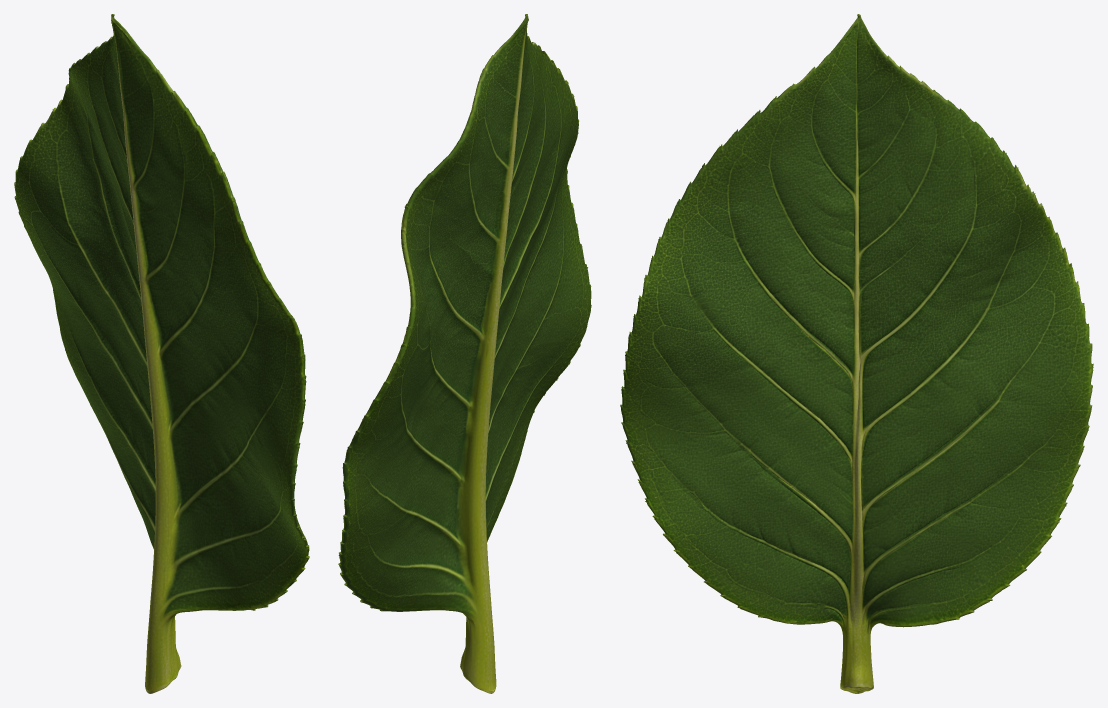
Rendered from leafcard.glb.
3 views of the same model, side by side, from view 1: azimuth 30°, elevation 25°; view 2: azimuth 150°, elevation 25°; view 3: azimuth 270°, elevation 25° (orthographic). The views are drawn at different scales.
Parts seen in each view (by area): view 1: tripo_node_b59f5614-e054-414b-b1bf-3f1816f5cf16; view 2: tripo_node_b59f5614-e054-414b-b1bf-3f1816f5cf16; view 3: tripo_node_b59f5614-e054-414b-b1bf-3f1816f5cf16.
Part boxes in pixels (left/top/right/bottom): tripo_node_b59f5614-e054-414b-b1bf-3f1816f5cf16: left=14, top=14, right=309, bottom=693; tripo_node_b59f5614-e054-414b-b1bf-3f1816f5cf16: left=338, top=14, right=591, bottom=693; tripo_node_b59f5614-e054-414b-b1bf-3f1816f5cf16: left=620, top=14, right=1093, bottom=693.
Bounding box in the file's own units: 0.0227 × 0.15 × 0.097.
Materials: 1 (1 with a texture image).
